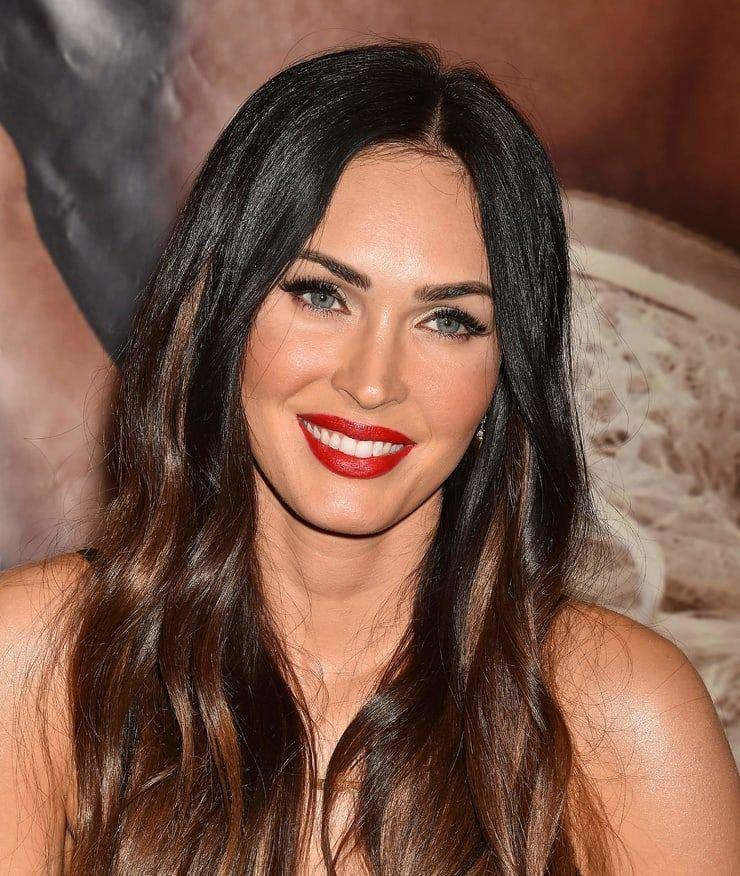Sober: (243, 168, 494, 495)
